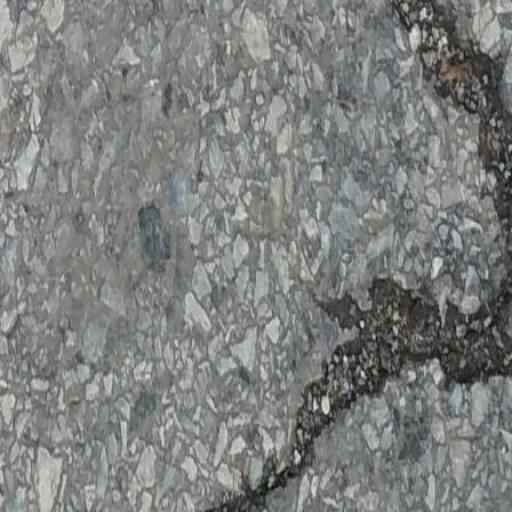spalling: (172, 0, 512, 512)
